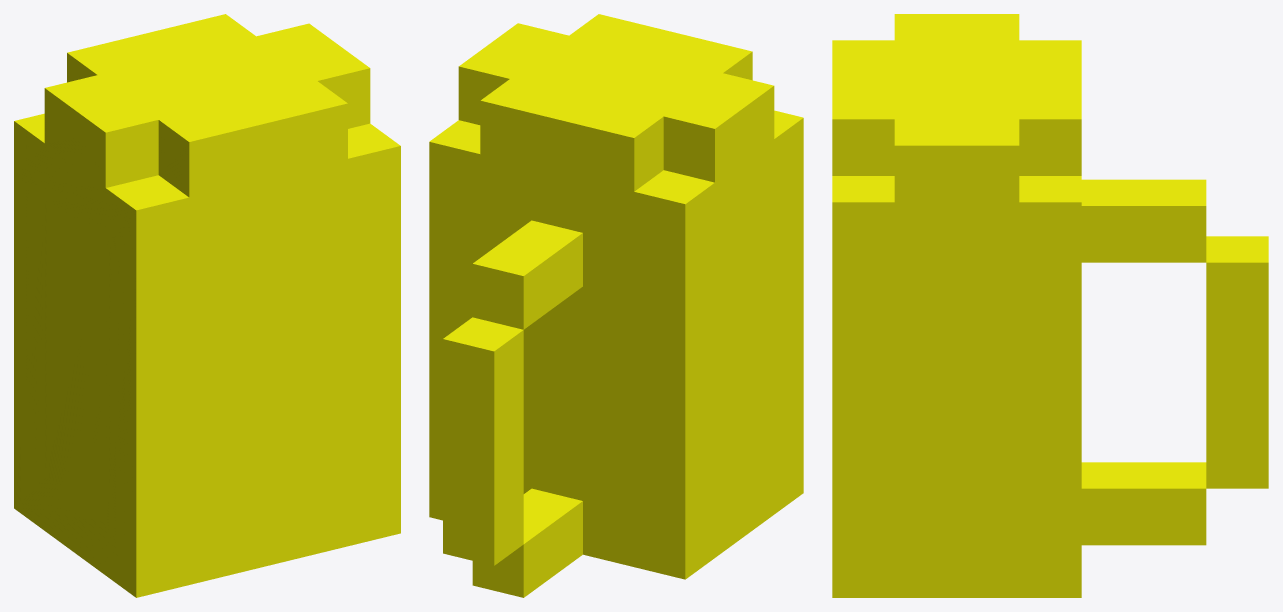
Rendered from voxel-village-beer.glb.
The picture shows the model from 3 angles, left to right: view 1: azimuth 30°, elevation 25°; view 2: azimuth 150°, elevation 25°; view 3: azimuth 270°, elevation 25°; orthographic projection. The views are drawn at different scales.
Visible parts, largest first — view 1: VS_Villagers_Beer; view 2: VS_Villagers_Beer; view 3: VS_Villagers_Beer.
Part boxes in pixels (x1,y1,x2,y2): VS_Villagers_Beer: [14, 14, 400, 597]; VS_Villagers_Beer: [429, 14, 803, 597]; VS_Villagers_Beer: [832, 14, 1268, 597].
Size of the model in its own units: 0.5 by 0.8 by 0.7.
